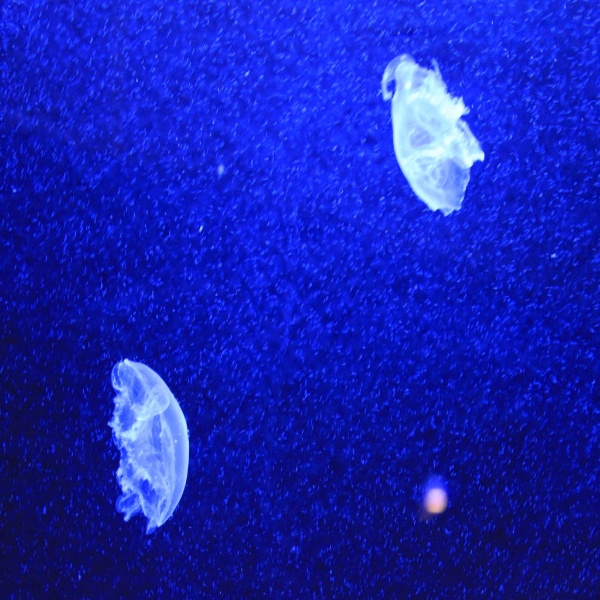Jellyfish: (376, 50, 483, 220), (112, 358, 191, 534)
